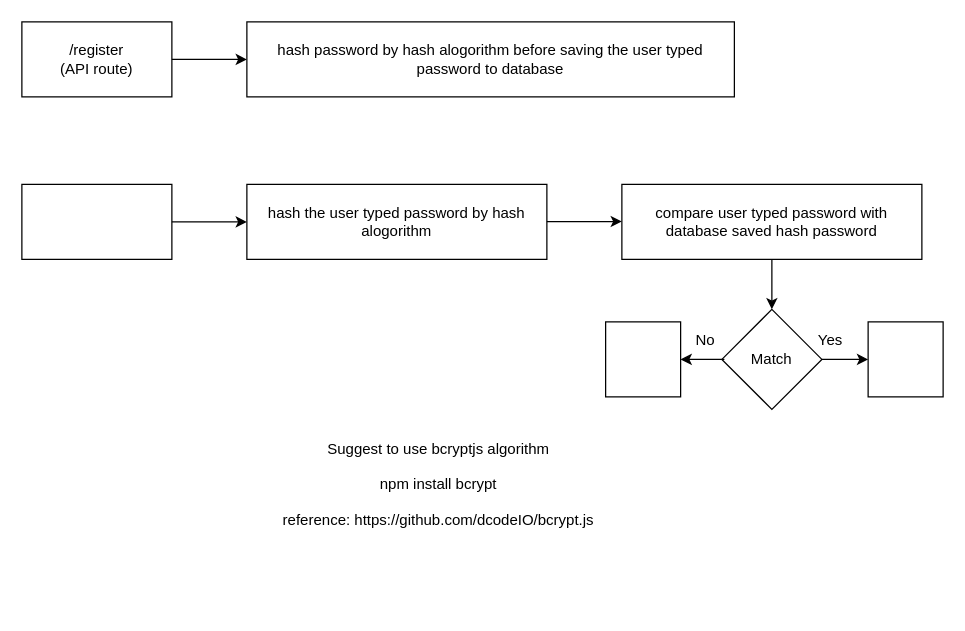
Some shapes in this 965 by 631 pixel diagram are drawn without their labels. Here are the shapes that lost their labels. From the top down, the centre of each, then its label:
At point 96,221: "/login (API route)".
At point 642,359: "Login failed".
At point 905,359: "Logged in".
